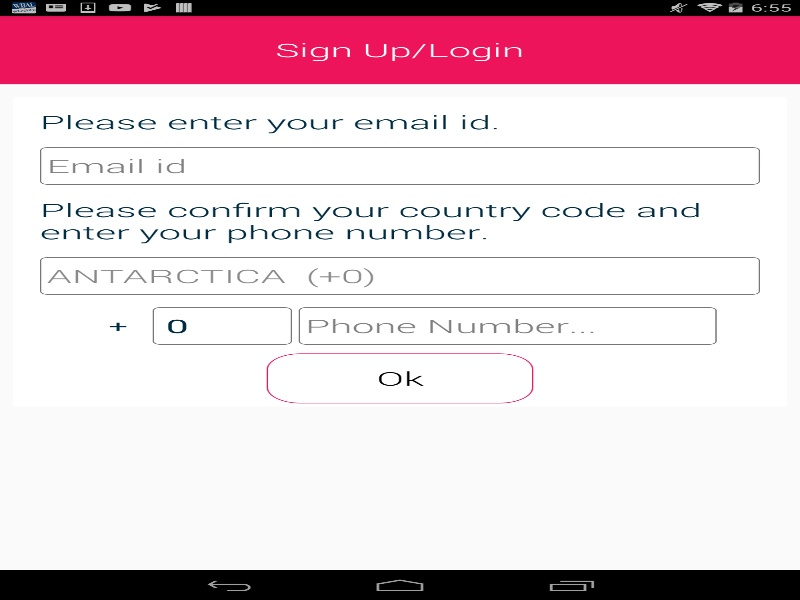Button: (266, 353, 533, 403)
Input: (40, 147, 760, 184), (40, 257, 760, 294), (298, 307, 716, 344), (152, 307, 292, 344)
